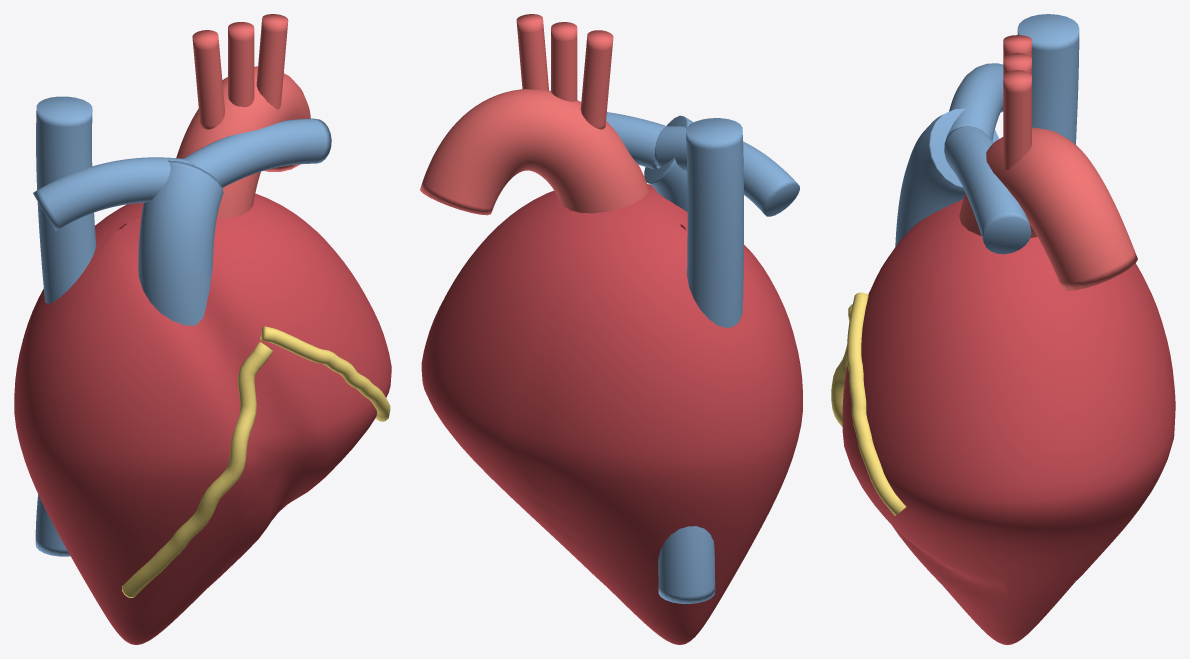
The model's file is corazon.glb.
The picture shows the model from 3 angles, left to right: view 1: azimuth 30°, elevation 25°; view 2: azimuth 150°, elevation 25°; view 3: azimuth 270°, elevation 25°; orthographic projection. The views are drawn at different scales.
Visible parts, largest first — view 1: corazon; view 2: corazon; view 3: corazon.
Part boxes in pixels (bbox=[...]): corazon: bbox=[14, 14, 391, 644]; corazon: bbox=[420, 14, 802, 644]; corazon: bbox=[831, 14, 1175, 644].
Size of the model in its own units: 2.12 by 3.46 by 1.68.
